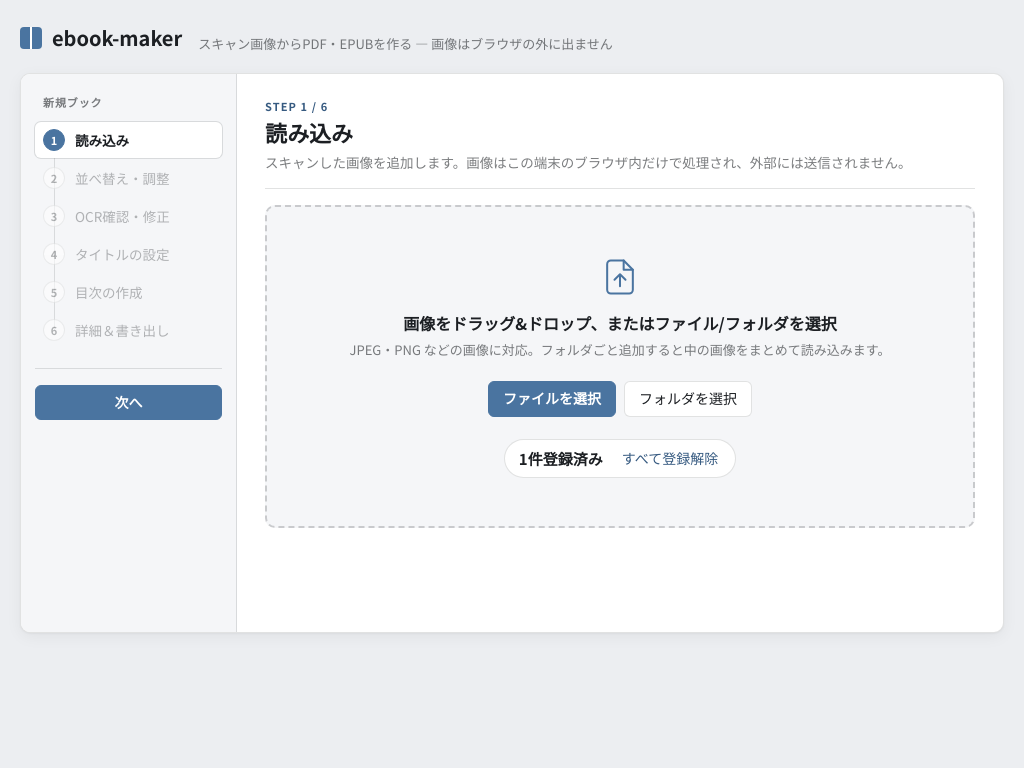
Test: App › advances from 並べ替え・調整 to the OCR確認・修正 step
The width and height of the screenshot is (1024, 768).
Step 1. Click the button "次へ" → coordinates (128, 403), box x1=35 y1=385 x2=222 y2=420
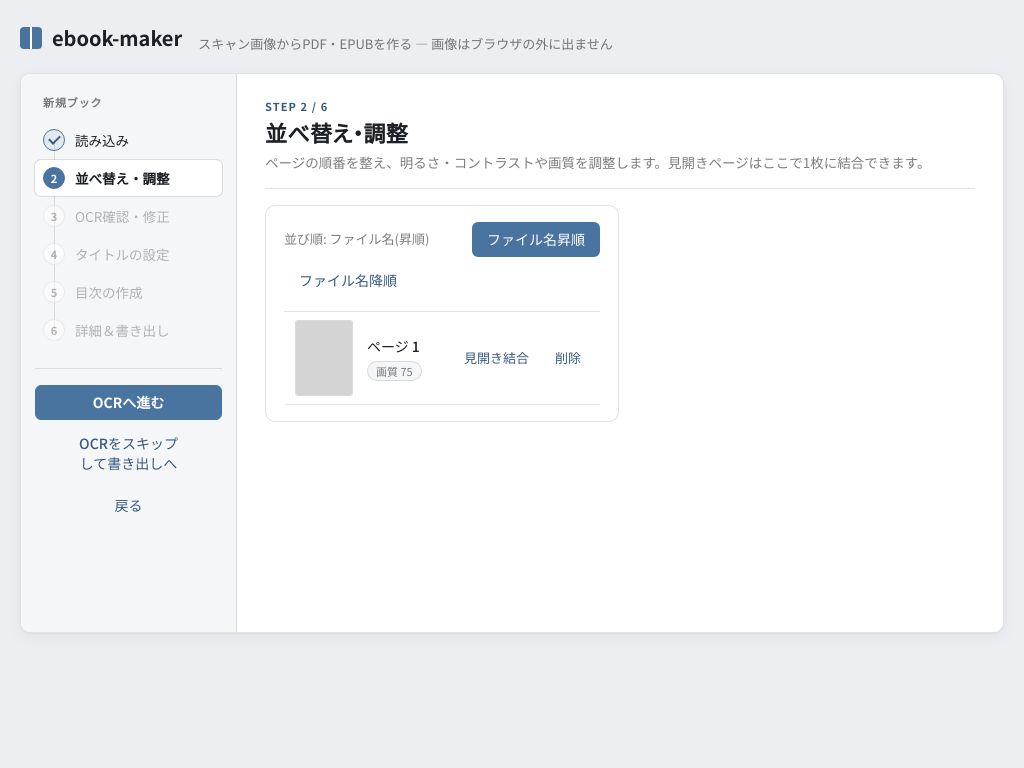
Step 2. Click the button "OCRへ進む" → coordinates (128, 403), box x1=35 y1=385 x2=222 y2=420
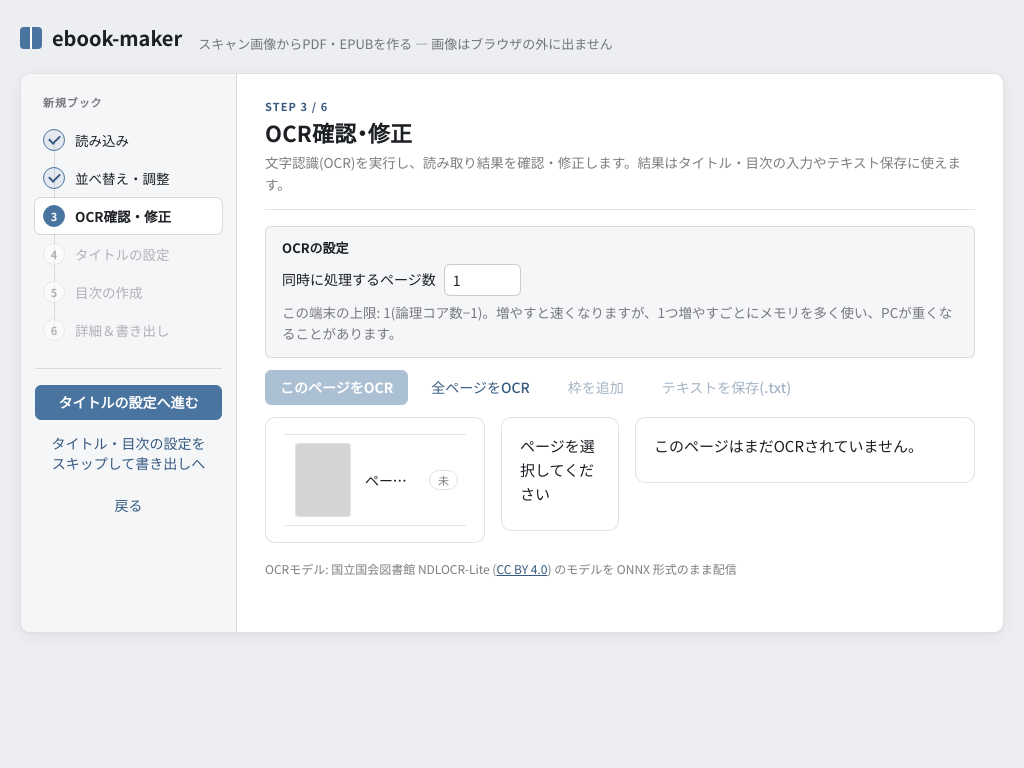
Expected: the button "このページをOCR" is shown, x1=265 y1=370 x2=408 y2=405
